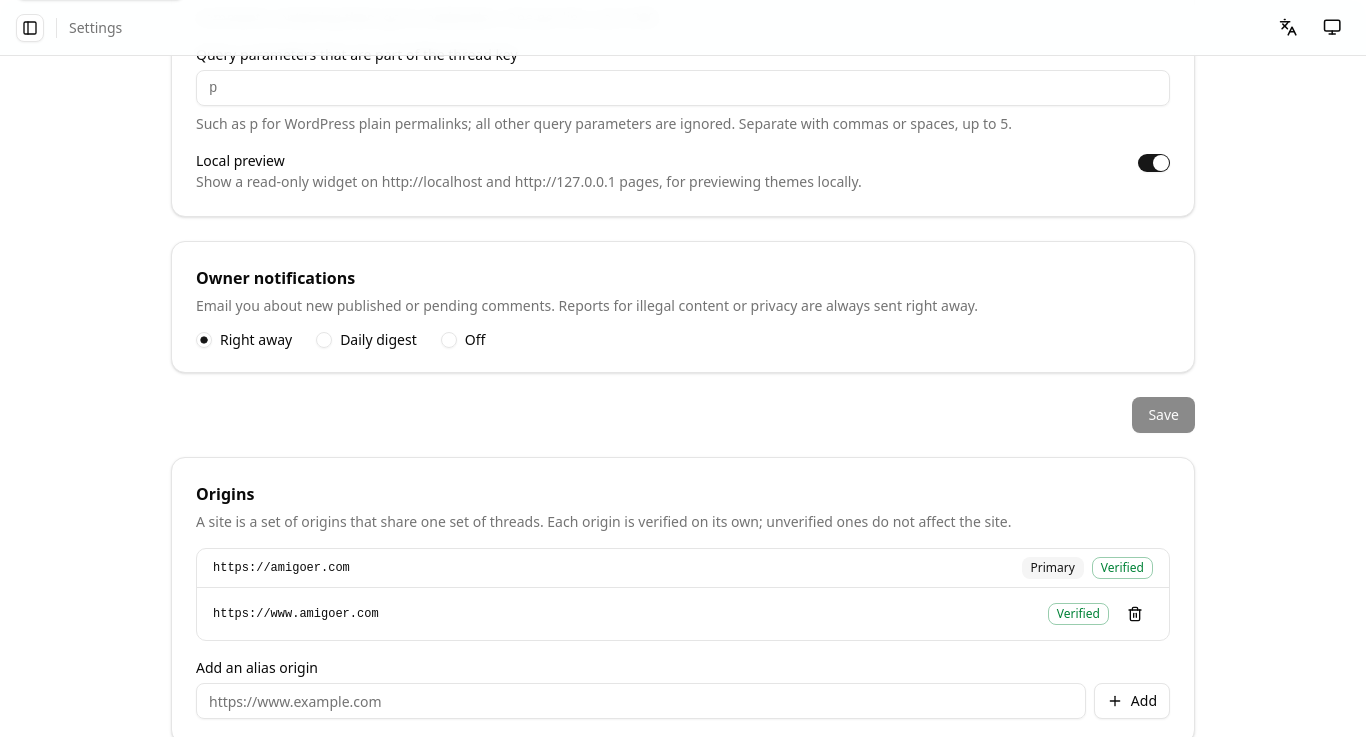
Test: site settings and lifecycle › adds and removes an alias origin
(page scrolled)
In the field labelled "Add an alias origin": (641,701) left=196, top=683, right=1086, bottom=719, type "https://blog.amigoer.com"
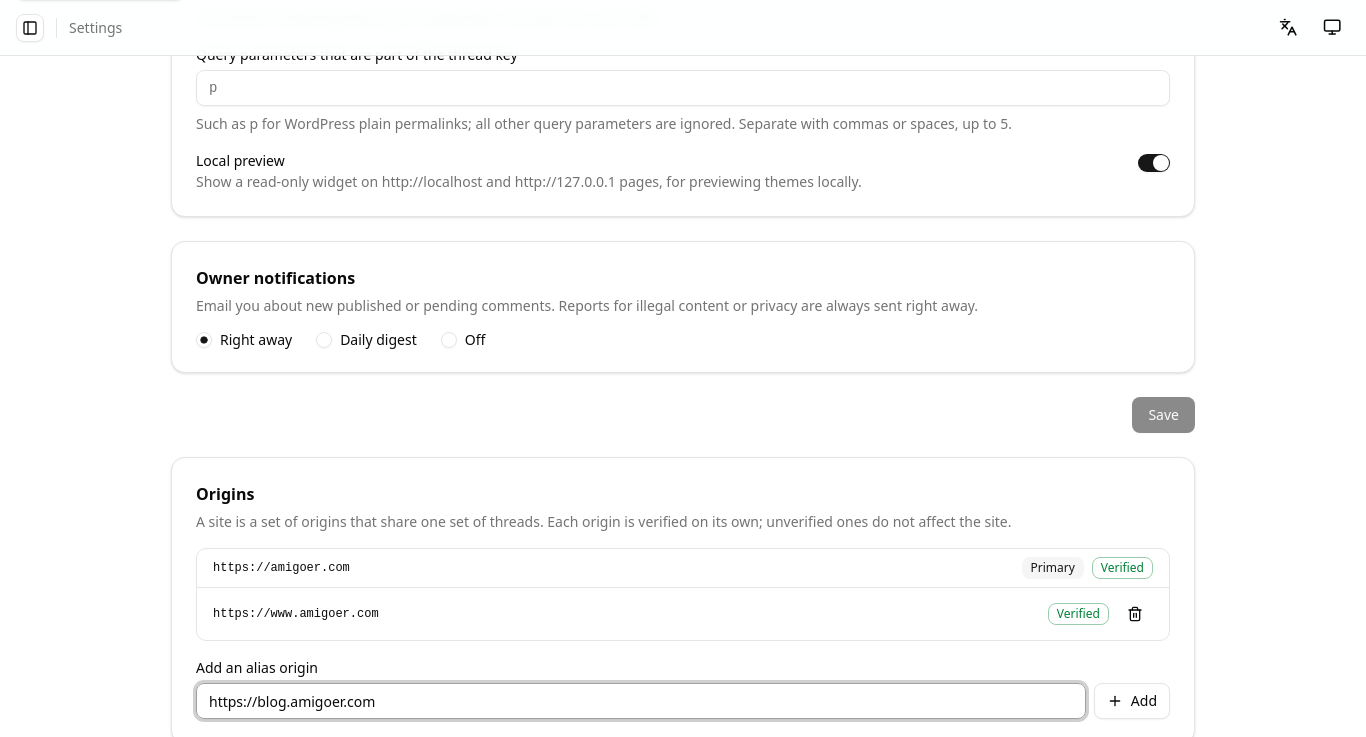
Click the button "Add": (1132,701) left=1094, top=683, right=1170, bottom=719
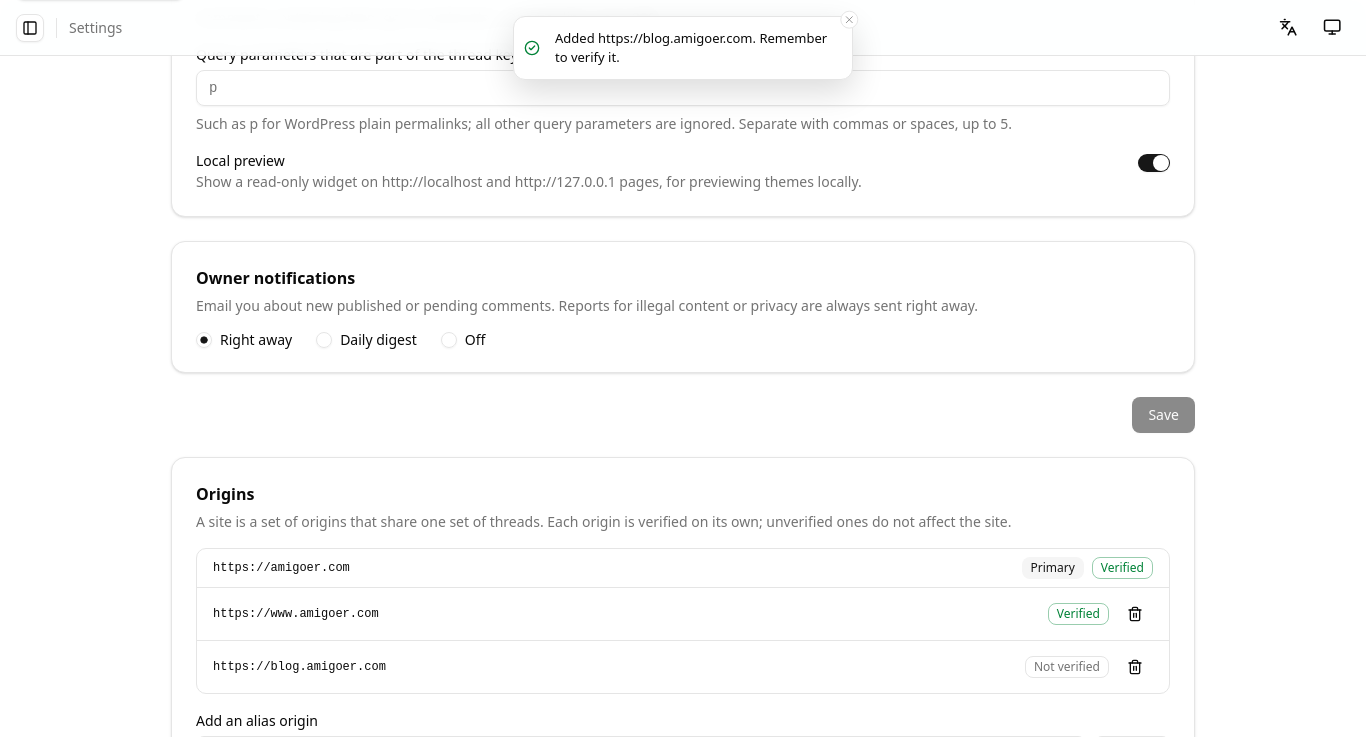
Check: the text "Added https://blog.amigoer.com. Remember to verify it." is shown, box left=555, top=29, right=838, bottom=67
Click the button named "Remove https://blog.amigoer.com": (1135,667) left=1117, top=649, right=1153, bottom=685
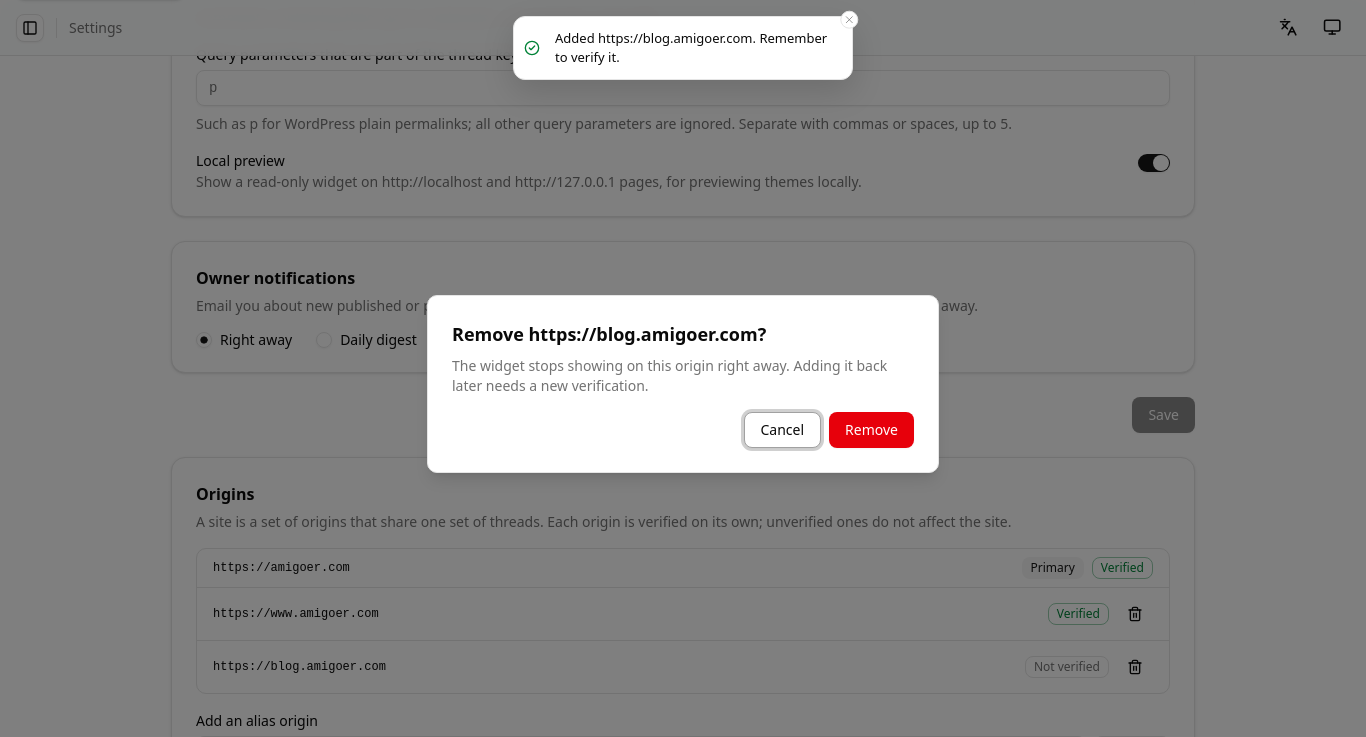
Click the button "Remove": (872,430) left=829, top=412, right=914, bottom=448
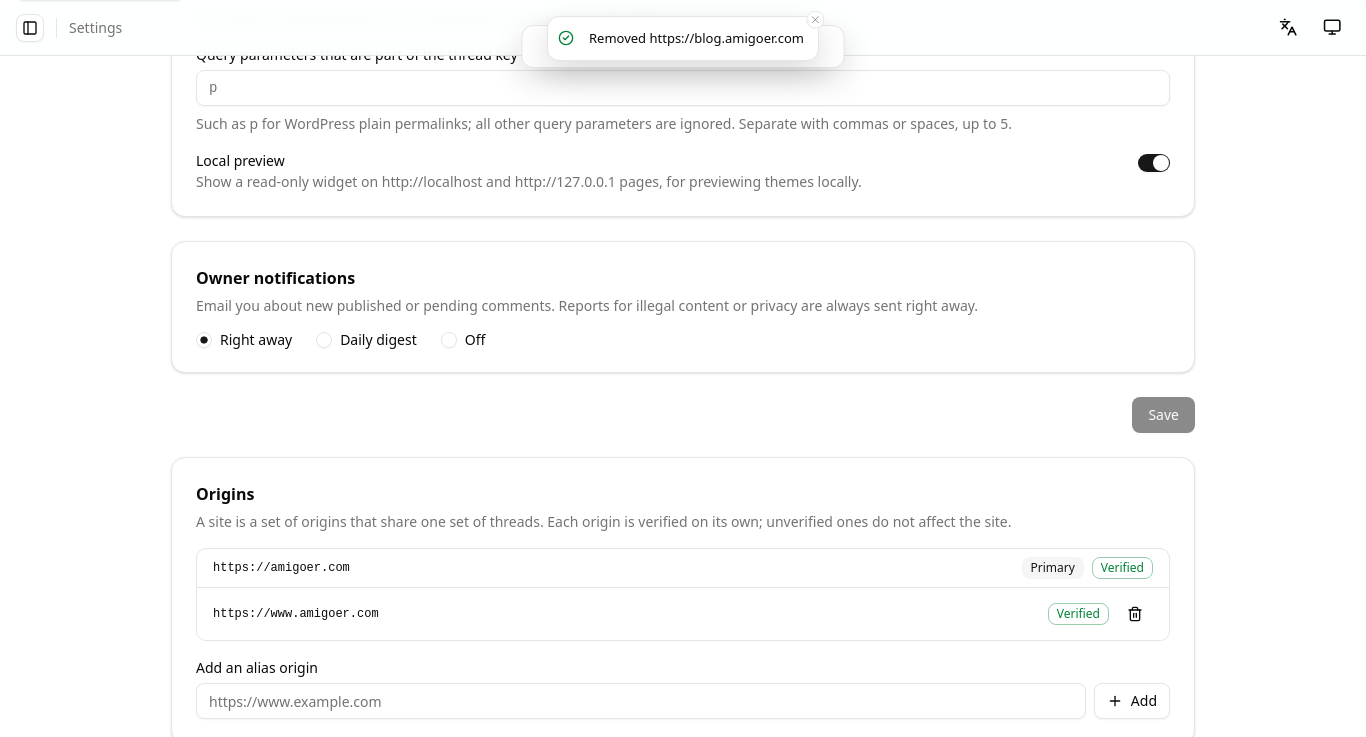
Check: the text "Removed https://blog.amigoer.com" is shown, box left=589, top=29, right=804, bottom=48
